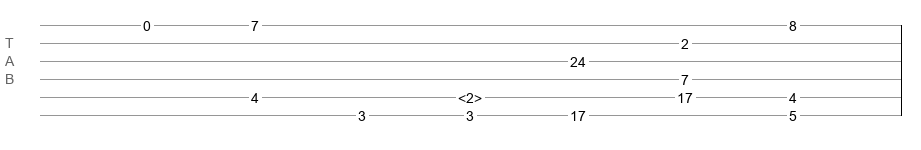0: (143, 18, 151, 28)
17: (570, 108, 586, 118), (677, 90, 693, 100)
2: (681, 36, 689, 46)
24: (570, 54, 586, 64)
3: (358, 108, 366, 118), (466, 108, 474, 118)
4: (251, 90, 259, 100), (789, 90, 797, 100)
5: (789, 108, 797, 118)
7: (251, 18, 259, 28), (681, 72, 689, 82)
8: (789, 18, 797, 28)
harmonic: (458, 90, 482, 100)
